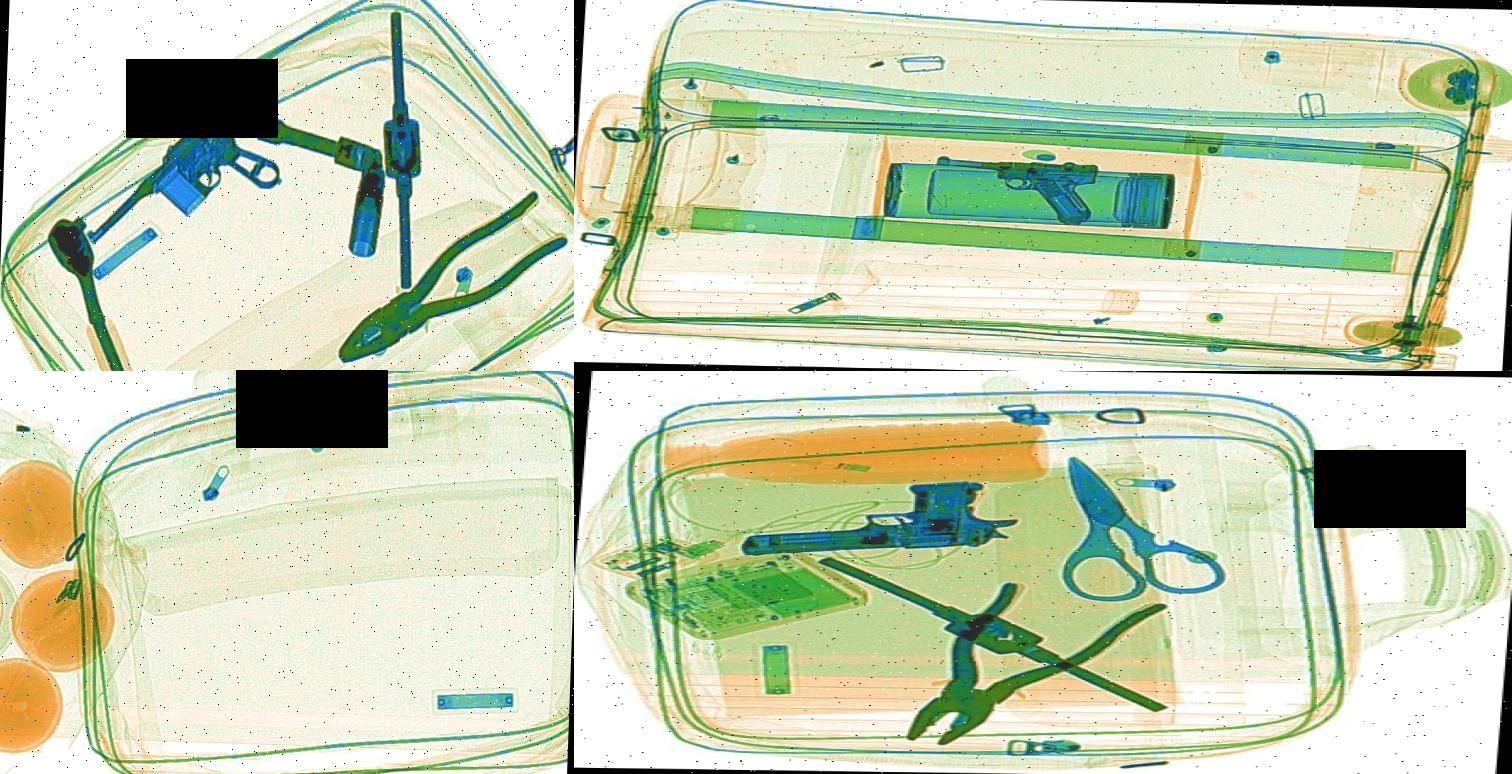Gun: (76, 102, 289, 297), (710, 474, 1032, 564), (915, 153, 1107, 226)
Pliers: (836, 574, 1170, 757), (312, 177, 574, 371)
Scissors: (975, 446, 1247, 606)
